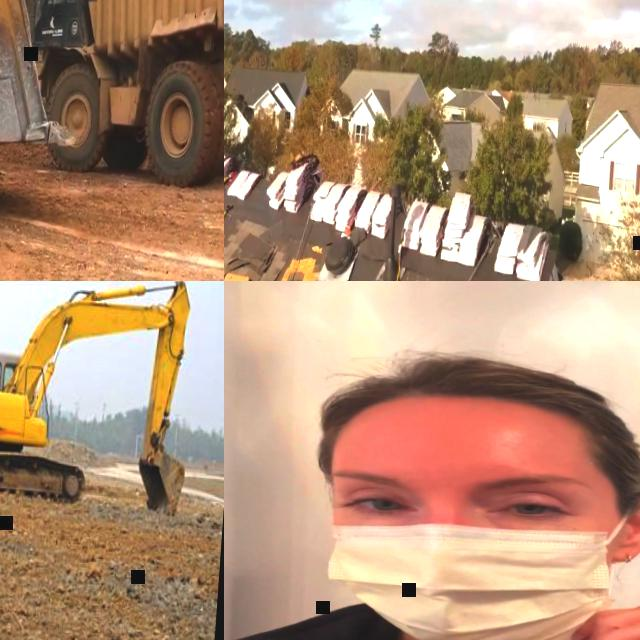machinery: (0, 281, 200, 514), (22, 0, 224, 194), (0, 0, 101, 249)
mask: (315, 508, 610, 640)
no_helmet: (312, 358, 638, 462)
person: (224, 338, 640, 640), (0, 376, 2, 392)
